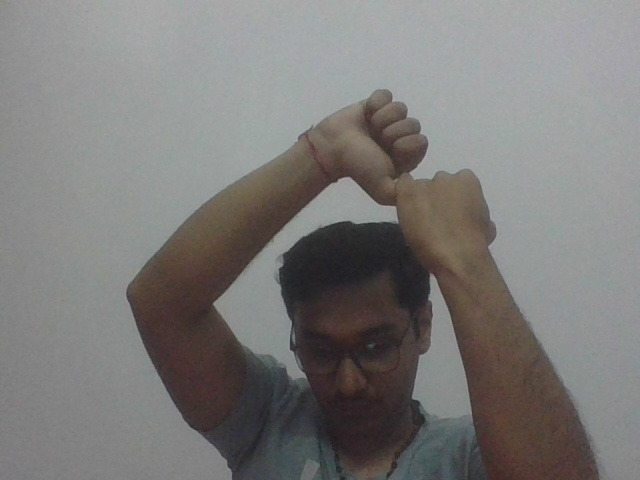S: (347, 95, 509, 230)
